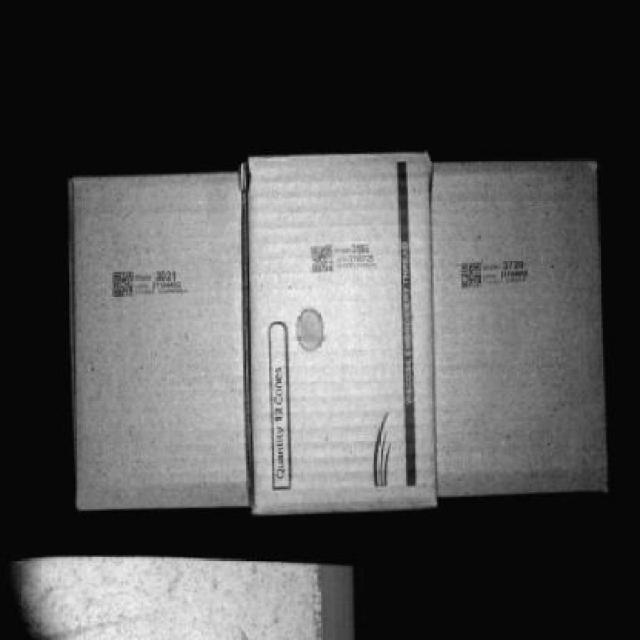box: (246, 150, 440, 502), (70, 170, 256, 518), (434, 150, 608, 493)
